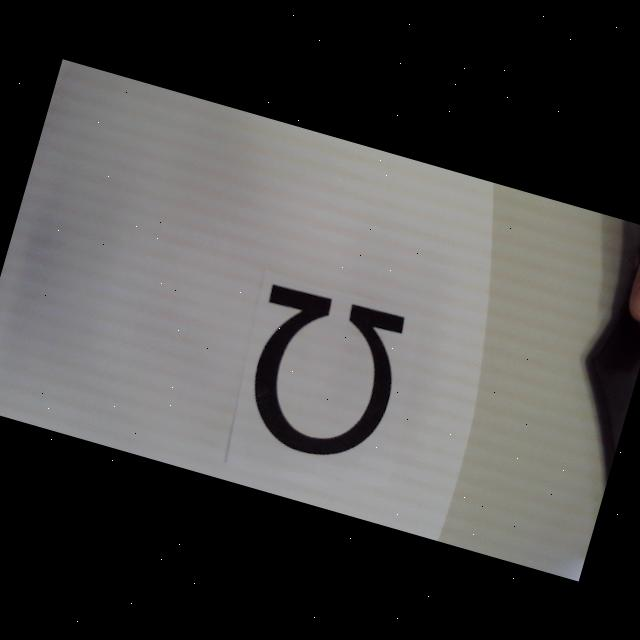OMEGA: (230, 279, 412, 472)
